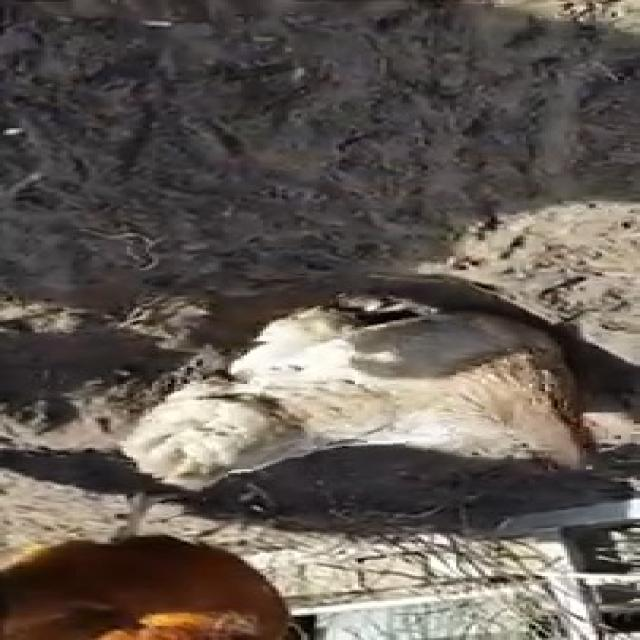stand bath: (111, 291, 640, 489)
